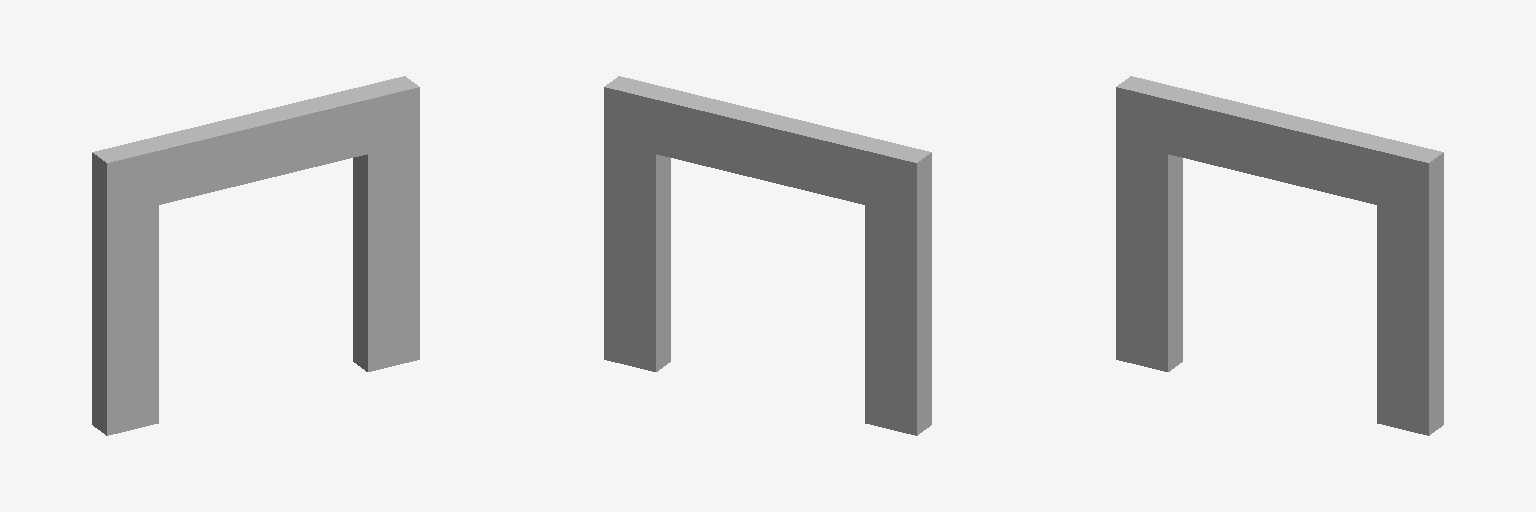
Rendered from dungeon_arch.obj.
The picture shows the model from 3 angles: view 1: azimuth 30°, elevation 25°; view 2: azimuth 150°, elevation 25°; view 3: azimuth 330°, elevation 25°; orthographic projection.
Parts seen in each view (by area): view 1: Cube; view 2: Cube; view 3: Cube.
Boxes of the visible parts, x1=… form: Cube: x1=92, y1=76, x2=419, y2=435; Cube: x1=604, y1=76, x2=931, y2=435; Cube: x1=1116, y1=76, x2=1443, y2=435.
Size of the model in its own units: 3 by 2.5 by 0.25.